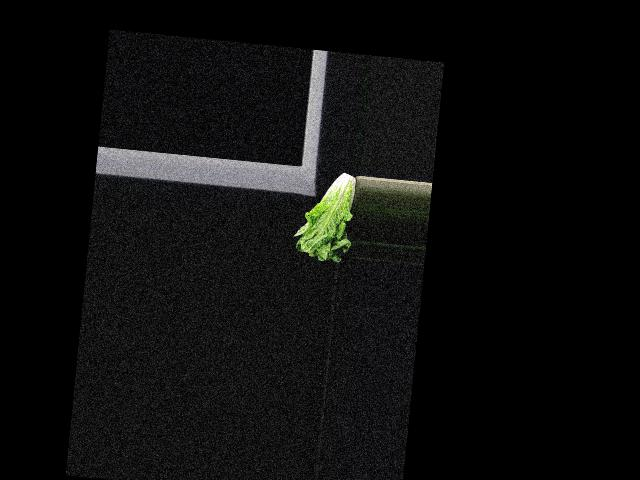lettuce: (292, 167, 358, 265)
